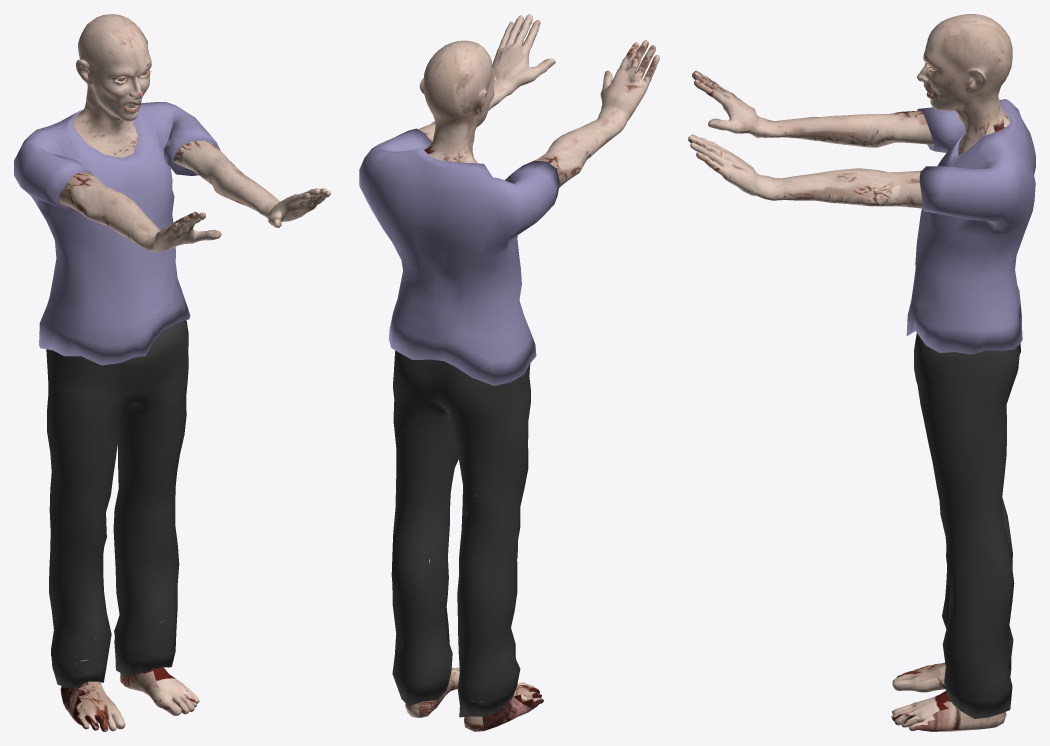
The model's file is zombie.obj.
The picture shows the model from 3 angles, left to right: view 1: azimuth 30°, elevation 25°; view 2: azimuth 150°, elevation 25°; view 3: azimuth 270°, elevation 25°; orthographic projection. The views are drawn at different scales.
Visible parts, largest first — view 1: Body; view 2: Body; view 3: Body.
Boxes of the visible parts, x1,y1,x2,y2 form: Body: [14, 14, 330, 731]; Body: [359, 14, 659, 731]; Body: [688, 14, 1035, 731].
Size of the model in its own units: 0.4855 by 1.79 by 0.8141.
Materials: 1 (1 with a texture image).
